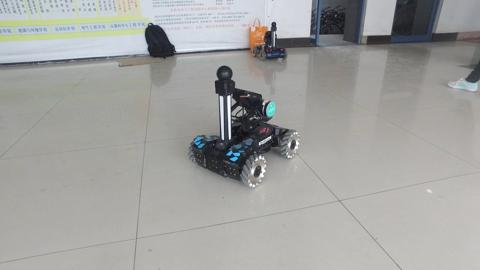bag: (143, 20, 177, 60), (248, 15, 269, 50)
chariot: (186, 64, 302, 189), (249, 20, 288, 61)
